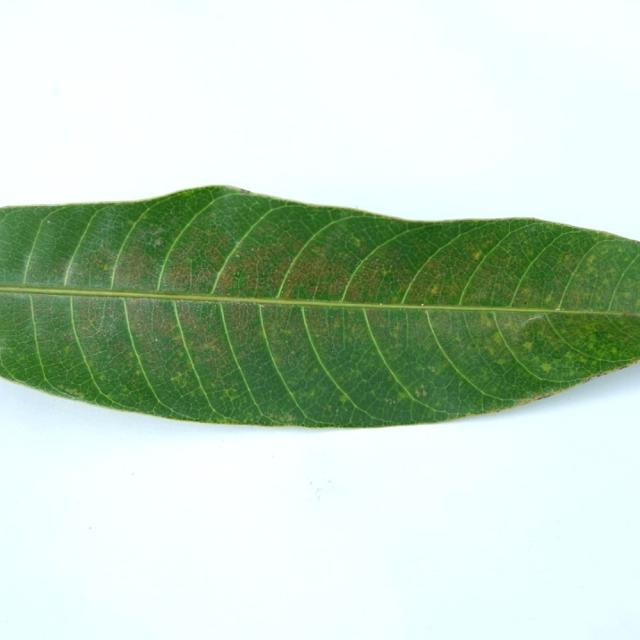Mango: (0, 186, 639, 426)
Powdery_Mildew: (77, 302, 115, 337), (146, 231, 170, 252), (122, 376, 144, 394), (231, 268, 249, 287), (222, 388, 239, 400), (293, 284, 307, 298), (492, 331, 505, 345), (62, 387, 82, 396), (428, 283, 444, 294), (620, 312, 639, 321), (518, 286, 531, 299), (482, 315, 495, 328), (608, 346, 622, 358), (531, 392, 549, 401), (584, 339, 597, 351), (171, 372, 185, 383), (585, 253, 597, 265), (586, 263, 598, 274), (338, 393, 350, 403), (397, 391, 410, 400), (312, 246, 325, 255), (522, 341, 533, 351), (487, 345, 497, 356), (540, 363, 552, 372), (384, 397, 397, 405), (472, 250, 482, 260), (544, 294, 554, 304), (185, 257, 195, 267), (303, 389, 313, 399), (391, 294, 402, 303), (126, 219, 137, 228), (495, 358, 507, 366), (577, 355, 589, 363), (172, 334, 182, 343), (380, 268, 390, 277), (351, 238, 361, 247), (332, 319, 341, 329), (284, 413, 294, 422), (233, 271, 242, 281), (622, 291, 633, 299), (282, 328, 293, 335), (391, 329, 399, 338), (140, 213, 149, 221), (229, 384, 238, 392), (234, 241, 242, 250), (64, 345, 72, 353), (428, 365, 436, 373), (563, 254, 572, 261), (453, 337, 462, 344), (103, 263, 111, 270), (99, 373, 107, 380), (420, 389, 427, 397), (311, 367, 319, 374), (435, 400, 443, 407), (291, 351, 299, 358), (135, 369, 142, 376), (387, 374, 394, 381), (414, 390, 421, 397), (458, 380, 464, 387), (335, 406, 340, 413), (252, 247, 257, 252), (227, 292, 233, 296), (315, 334, 320, 338), (136, 333, 141, 337), (259, 304, 264, 308), (236, 254, 240, 258), (301, 307, 305, 311), (555, 308, 560, 311), (47, 220, 51, 223), (154, 338, 158, 341), (420, 303, 424, 306), (379, 303, 382, 305)
